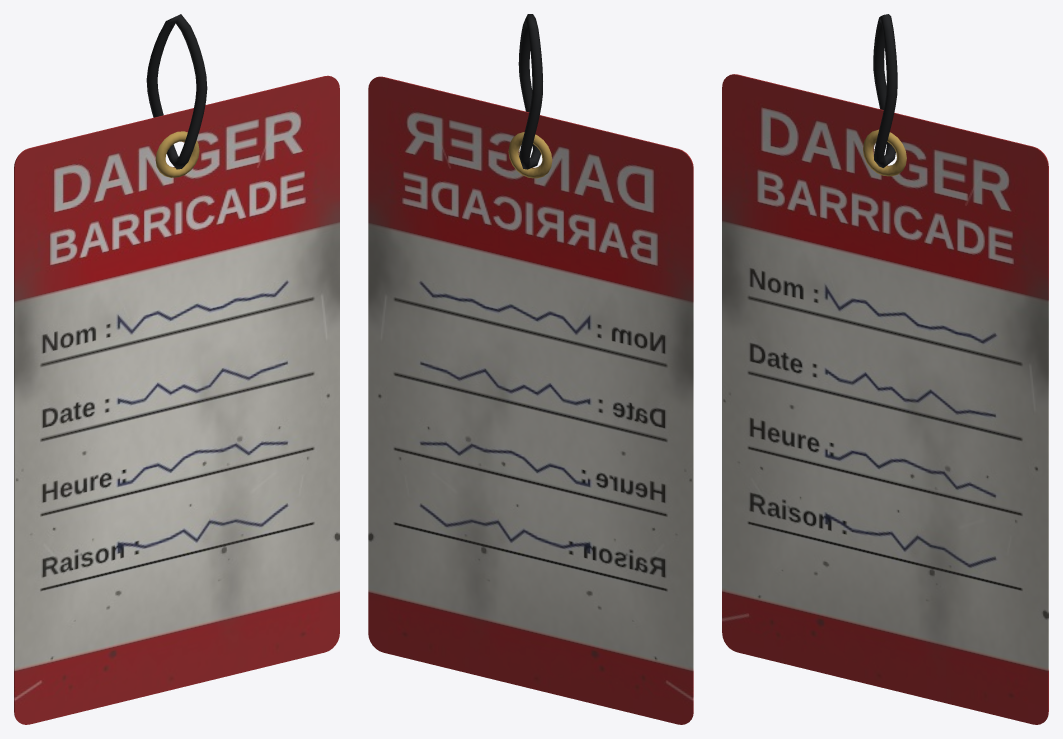
File: SM_Carte_Barricade.glb
The picture shows the model from 3 angles, left to right: view 1: azimuth 30°, elevation 25°; view 2: azimuth 150°, elevation 25°; view 3: azimuth 330°, elevation 25°; orthographic projection.
Parts seen in each view (by area): view 1: SM_Carte_Barricade; view 2: SM_Carte_Barricade; view 3: SM_Carte_Barricade.
Part boxes in pixels (<box>): SM_Carte_Barricade: <box>14,14,339,724</box>; SM_Carte_Barricade: <box>368,14,693,724</box>; SM_Carte_Barricade: <box>722,14,1048,724</box>.
Bounding box in the file's own units: 0.0825 × 0.1634 × 0.0108.
3 materials, 1 textured.
